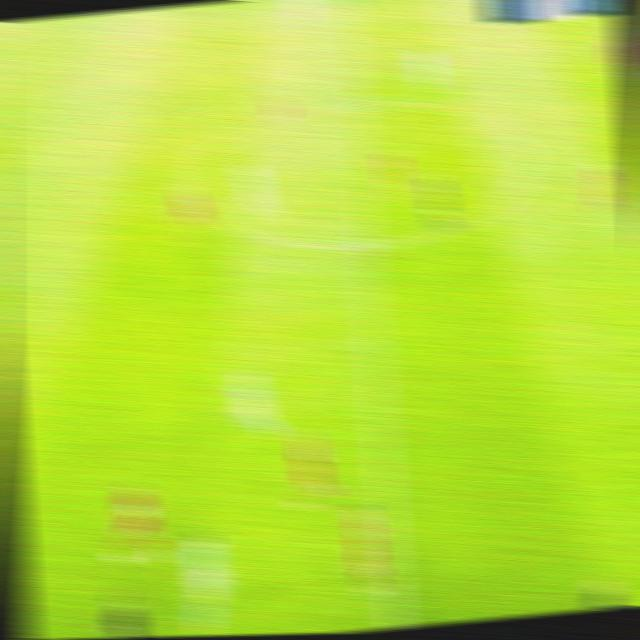halfcircle_bottom: (337, 220, 398, 270)
halfcircle_top: (334, 85, 375, 126)
midline_top_intersection: (326, 0, 366, 2)
